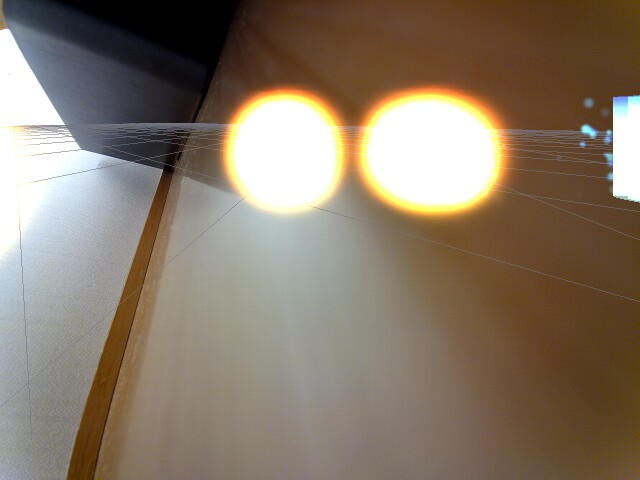firebig: (355, 91, 518, 233)
